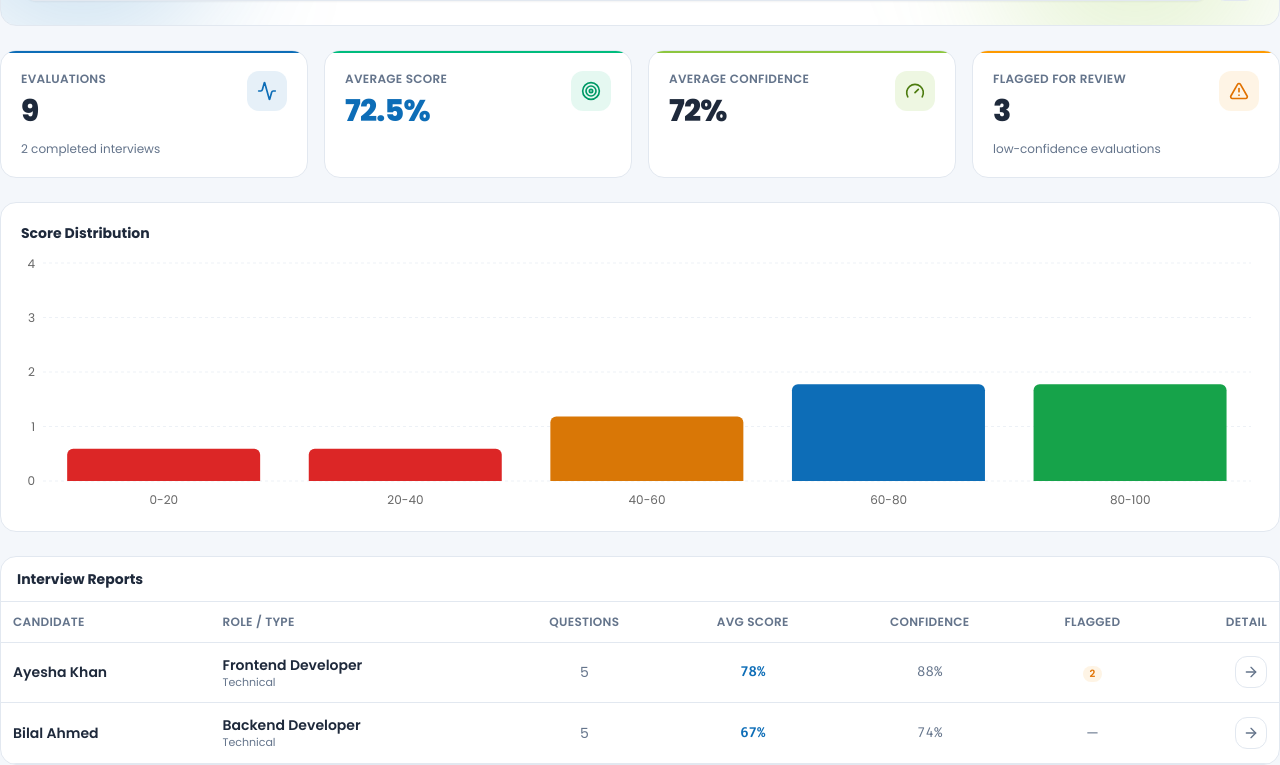
AdminScoringPage › opens the per-question breakdown when a row is clicked
The image size is (1280, 765).
(page scrolled)
What coordinates should you click on to do the following:
click the text "Ayesha Khan"
I would click on:
 (106, 672)
Its box is [1,642,210,703].
(page scrolled)
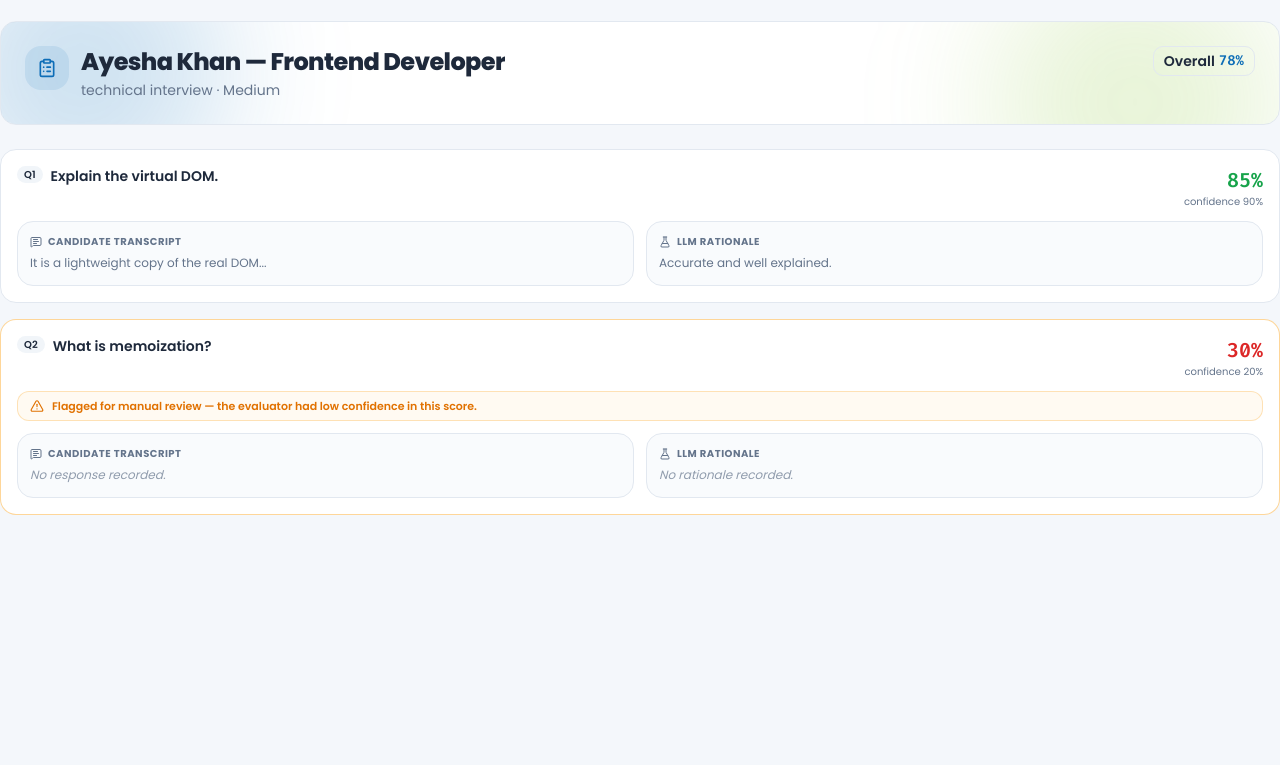
Expected: the text "Explain the virtual DOM." is shown, [50,166,218,186]
